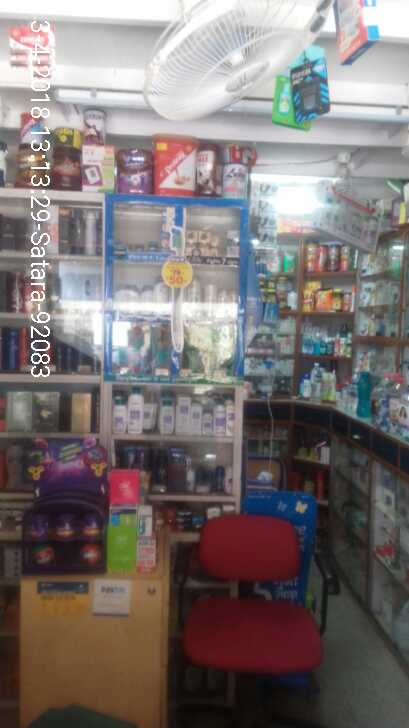vicks: (126, 239, 161, 254)
